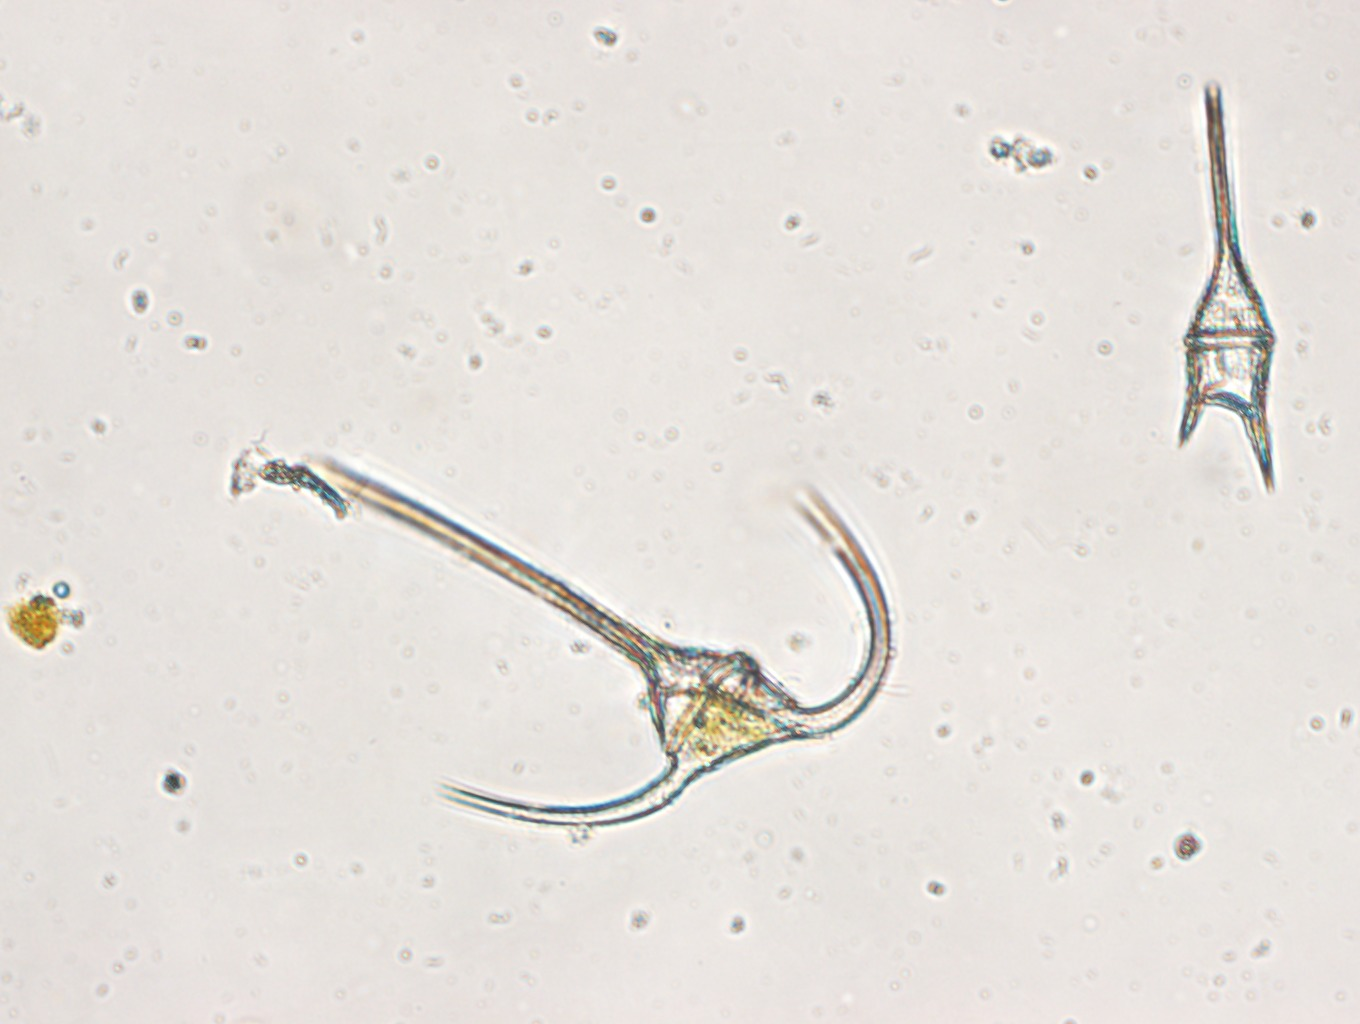ceratium furca: (1165, 77, 1287, 500)
ceratium trichoceros: (301, 449, 897, 833)
